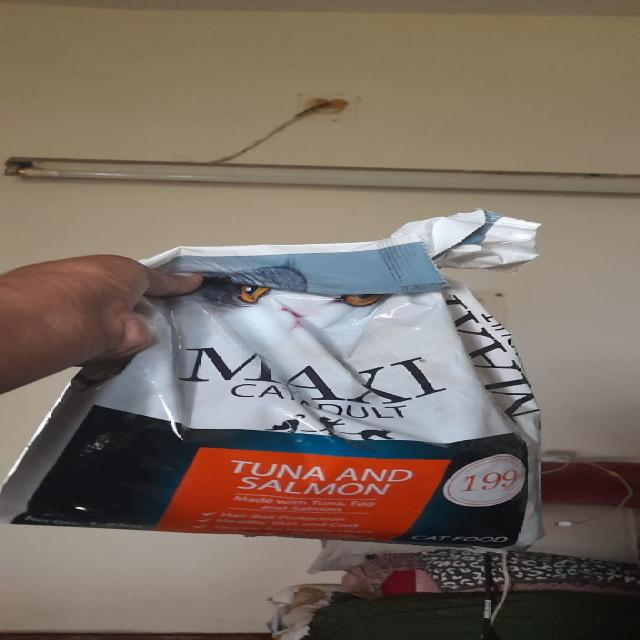Plastic - Recyclable: (4, 210, 548, 550)
